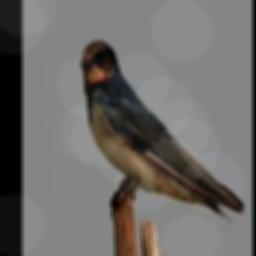Swallow: (80, 42, 244, 218)
